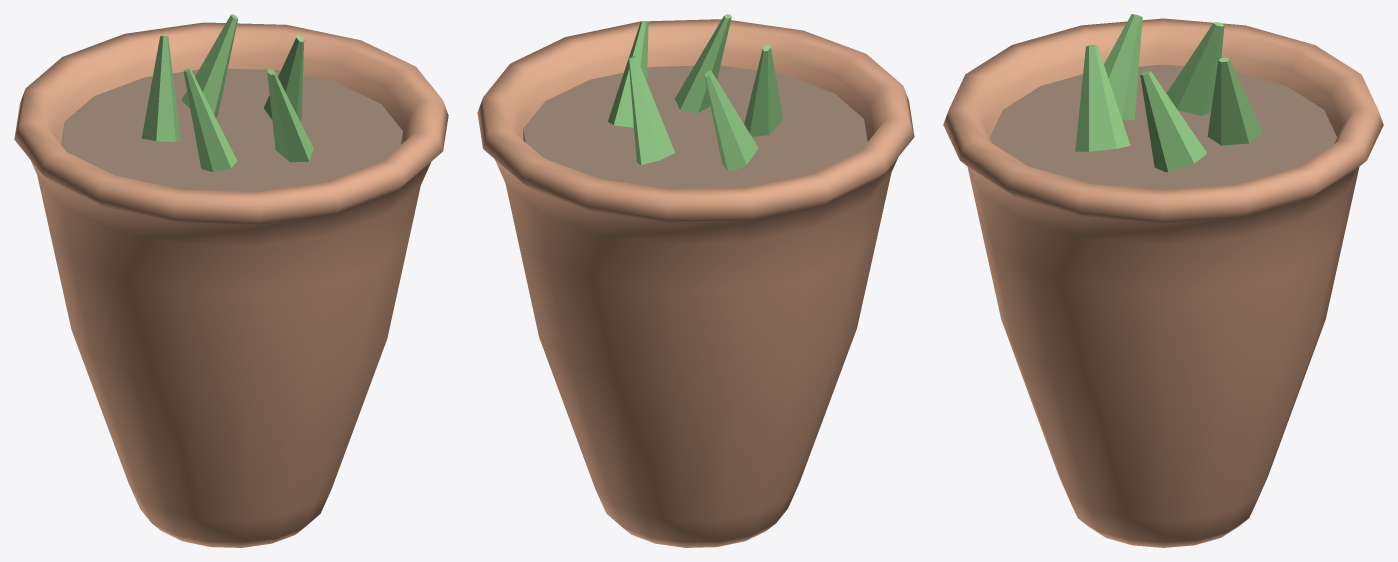
File: Flowerpot.fbx
3 renders of one model, left to right at view 1: azimuth 30°, elevation 25°; view 2: azimuth 150°, elevation 25°; view 3: azimuth 270°, elevation 25°, orthographic.
Parts seen in each view (by area): view 1: Flowerpot; view 2: Flowerpot; view 3: Flowerpot.
Part boxes in pixels (box(x1,y1,x2,y2)): Flowerpot: box(14, 14, 448, 547); Flowerpot: box(477, 14, 914, 547); Flowerpot: box(943, 14, 1383, 547).
Bounding box in the file's own units: 0.76 × 0.898 × 0.76.
